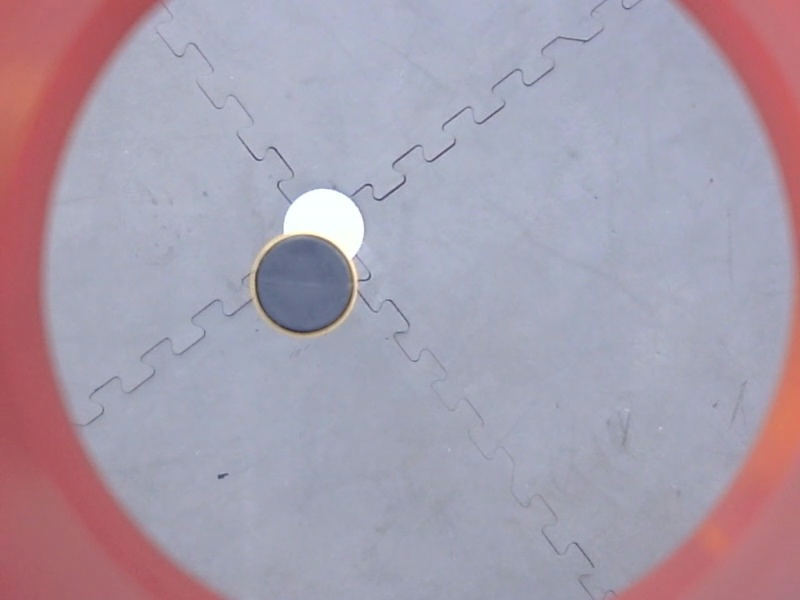tip: (243, 228, 364, 342)
